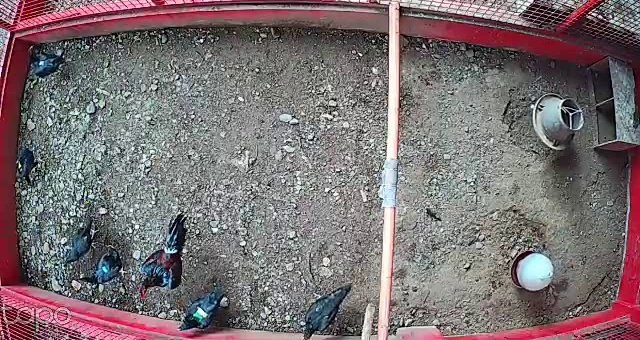Chicken: (174, 287, 230, 334), (78, 246, 129, 287), (60, 222, 97, 267), (15, 147, 46, 187), (28, 52, 68, 81)
Rooster: (137, 211, 191, 302)
Saddle_Color_Blue: (101, 265, 108, 273)
Saddle_Color_YellowGreen: (193, 308, 210, 321)
